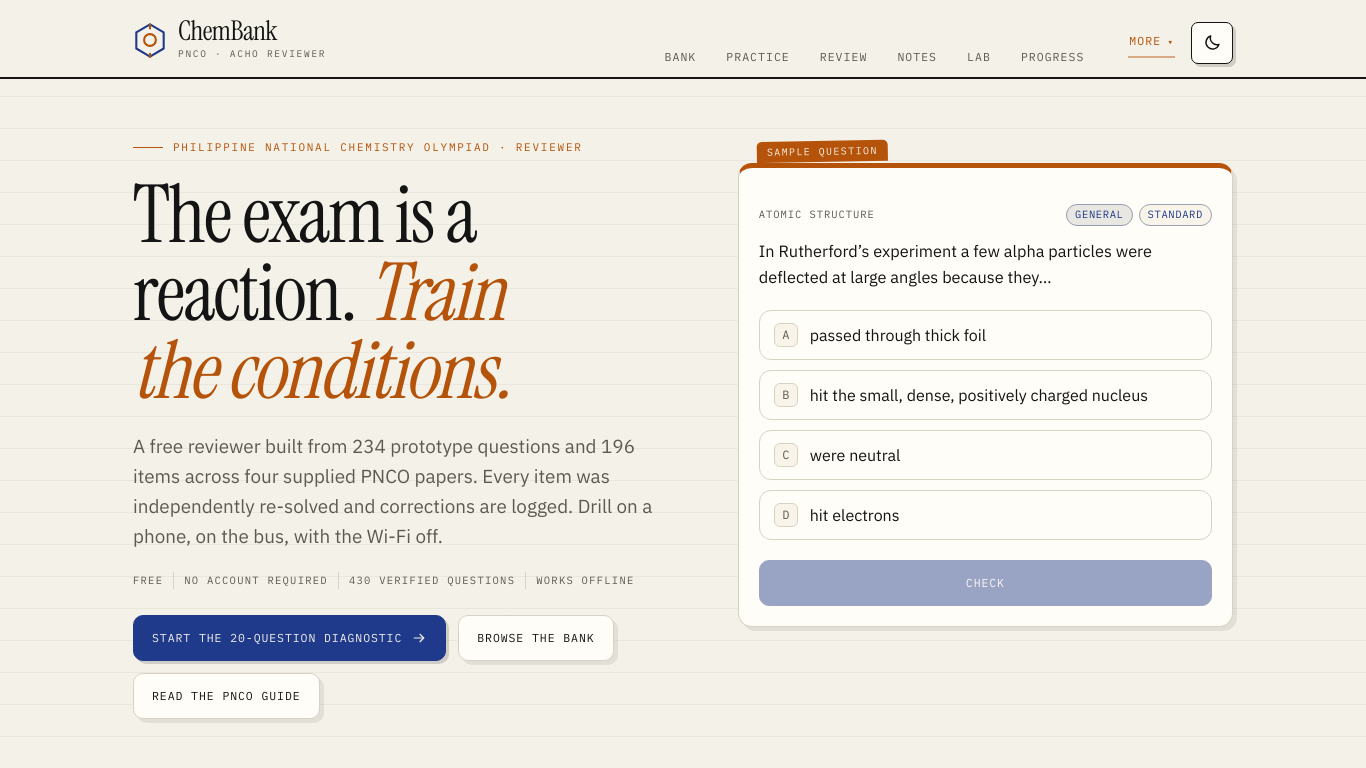
try another clears the result and re-disables check
The image size is (1366, 768).
Check: the button "Check" is disabled, box [759,560,1212,606]
Click the radio button labelled "A passed through thick foil" at (985, 335), box [759,310,1212,360]
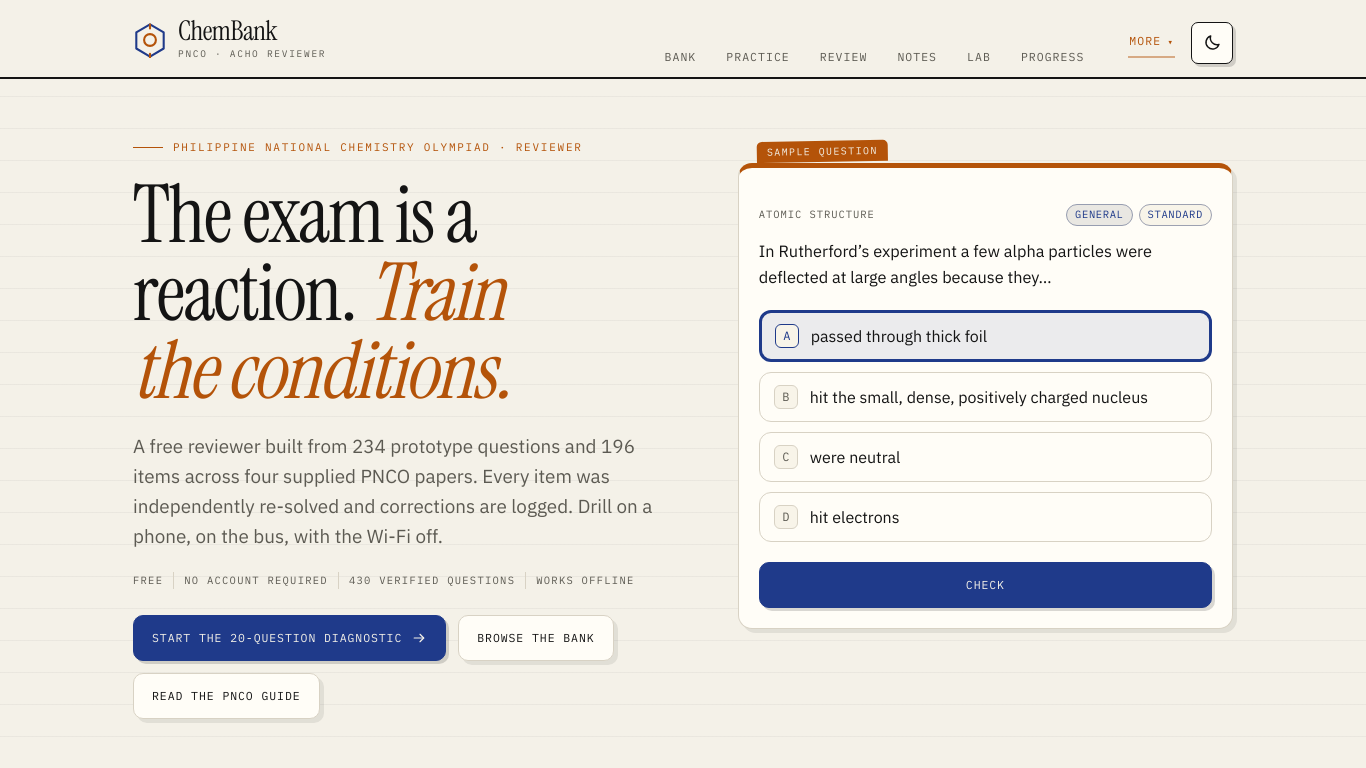
Check: the button "Check" is enabled
Click the button "Check" at (985, 585), box [759,562,1212,608]
(page scrolled)
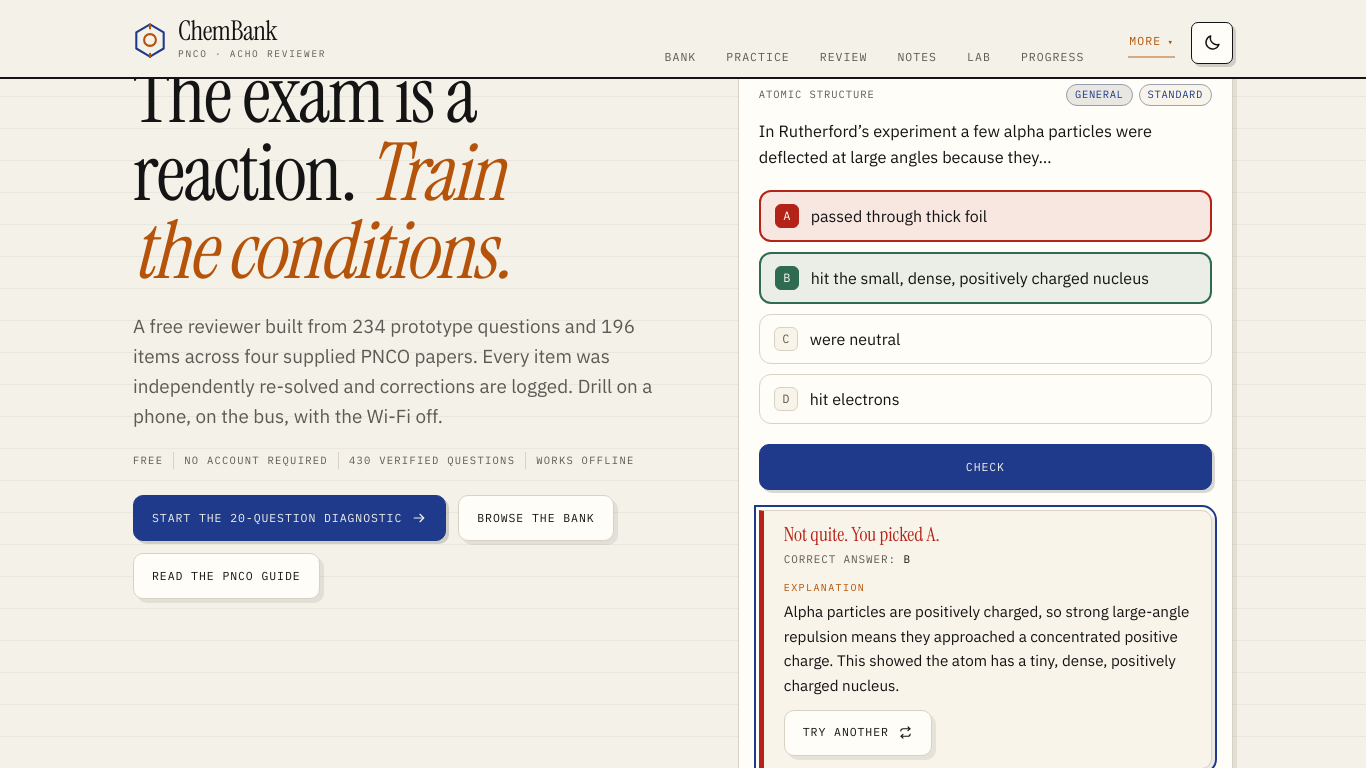
Check: the message is shown, box [759,510,1212,767]
Click the button "Try another" at (858, 733), box [784,710,932,756]
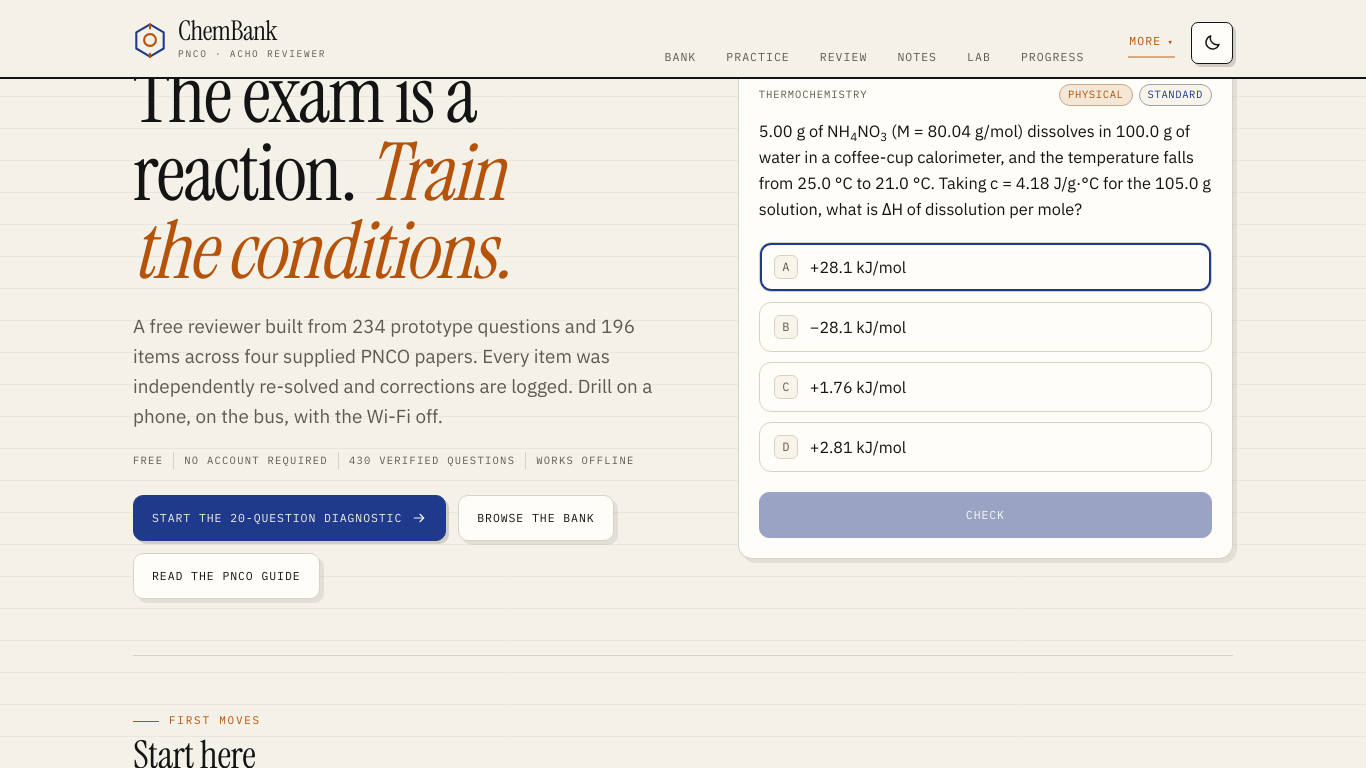
Check: the text "Correct answer" is gone
Check: the message is gone
Check: the button "Check" is disabled, box [759,492,1212,538]
